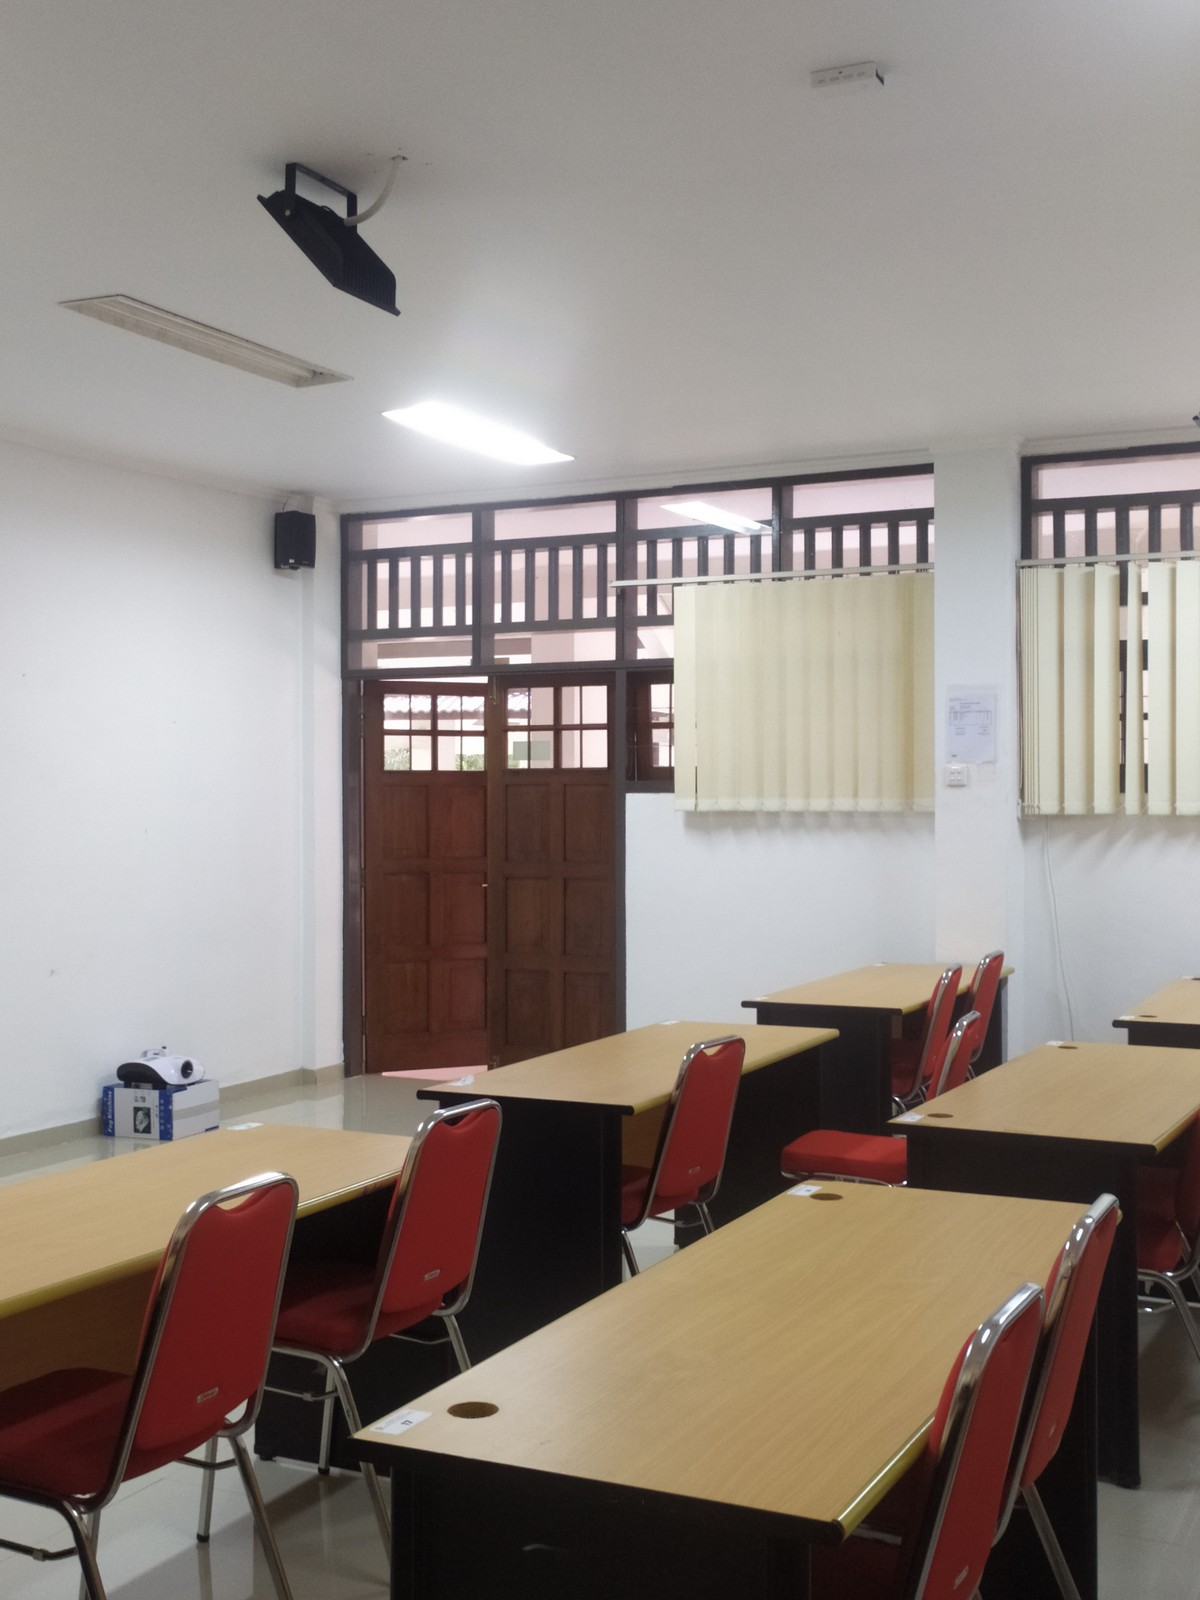concrete column: (920, 425, 1041, 1046), (279, 486, 350, 1094)
